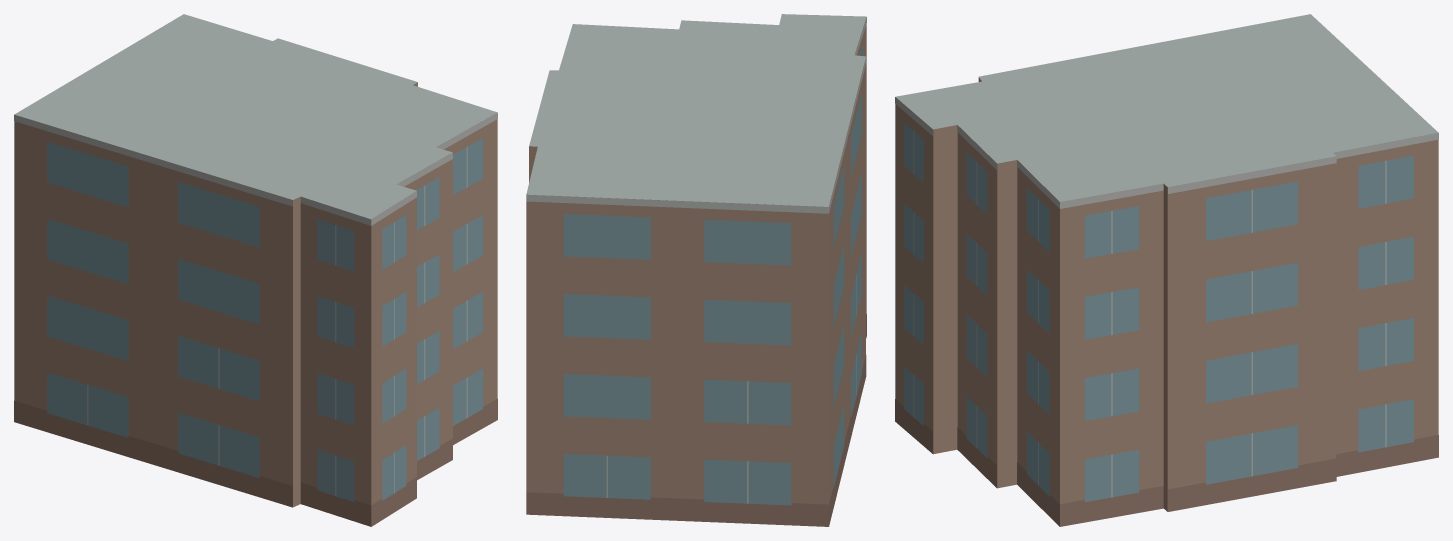
File: survey-upis-32511631.glb
The picture shows the model from 3 angles, left to right: view 1: azimuth 30°, elevation 25°; view 2: azimuth 150°, elevation 25°; view 3: azimuth 270°, elevation 25°; orthographic projection. The views are drawn at different scales.
Parts seen in each view (by area): view 1: survey-upis-32511631.tmp; view 2: survey-upis-32511631.tmp; view 3: survey-upis-32511631.tmp.
Boxes of the visible parts, left/top/right/bottom form: survey-upis-32511631.tmp: left=14, top=14, right=497, bottom=526; survey-upis-32511631.tmp: left=526, top=14, right=866, bottom=526; survey-upis-32511631.tmp: left=895, top=14, right=1438, bottom=526.
Size of the model in its own units: 14.29 by 11.5 by 17.45.
